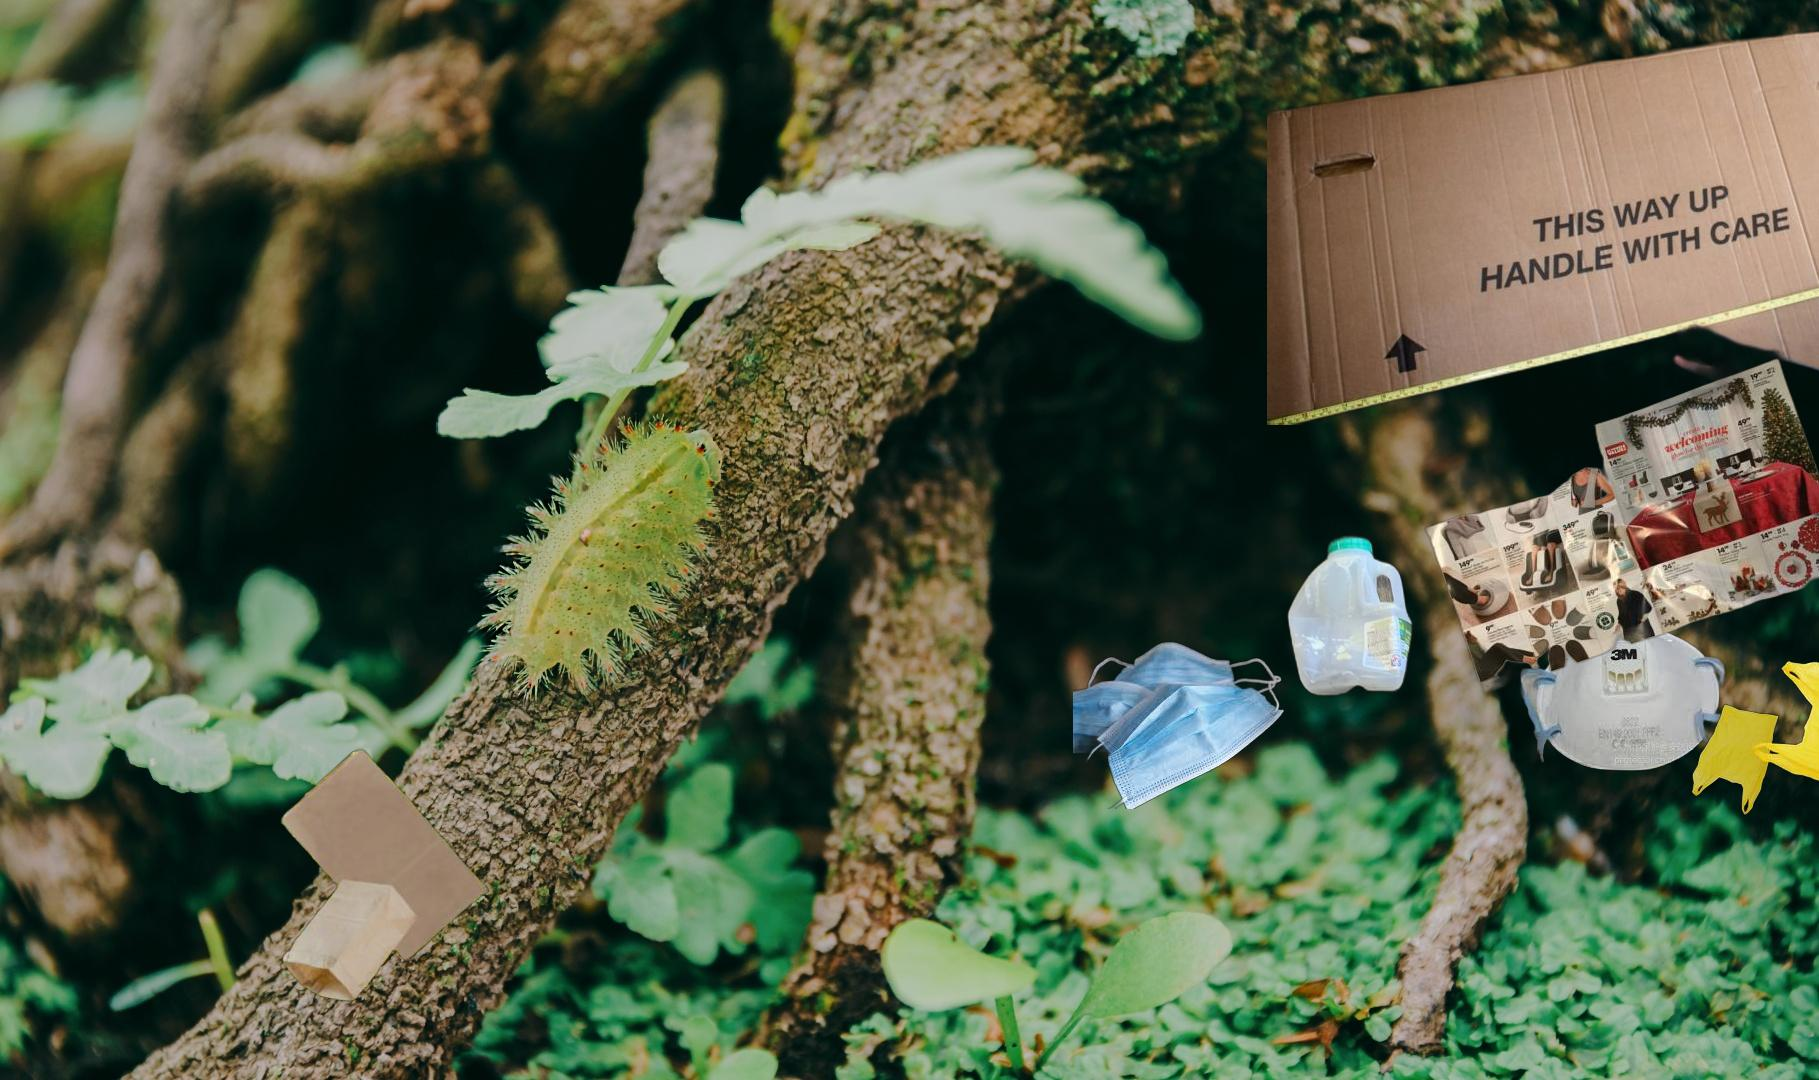paper: (1421, 356, 1819, 698)
paper-bag: (278, 746, 493, 1004)
plastic-bag: (1689, 658, 1819, 818)
plastic-bottles: (1283, 529, 1698, 1080)
trash: (1073, 641, 1287, 809), (1517, 617, 1737, 773)
trashbox-cardboard: (1267, 15, 1819, 425)
